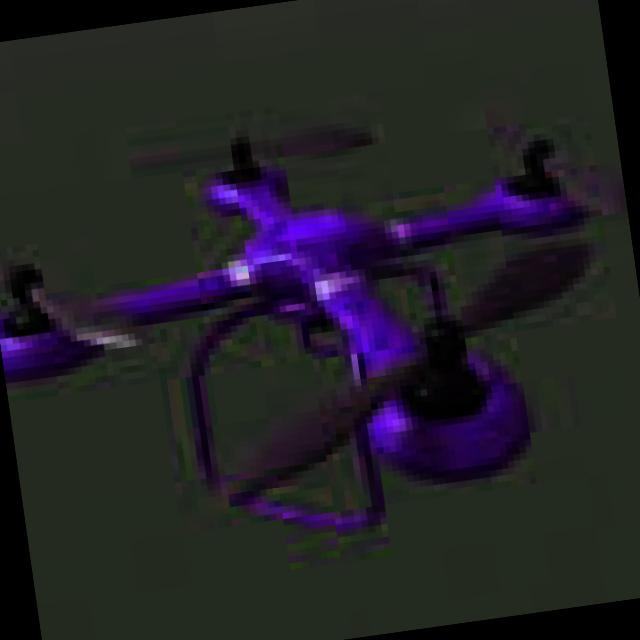drone: (0, 53, 640, 602)
